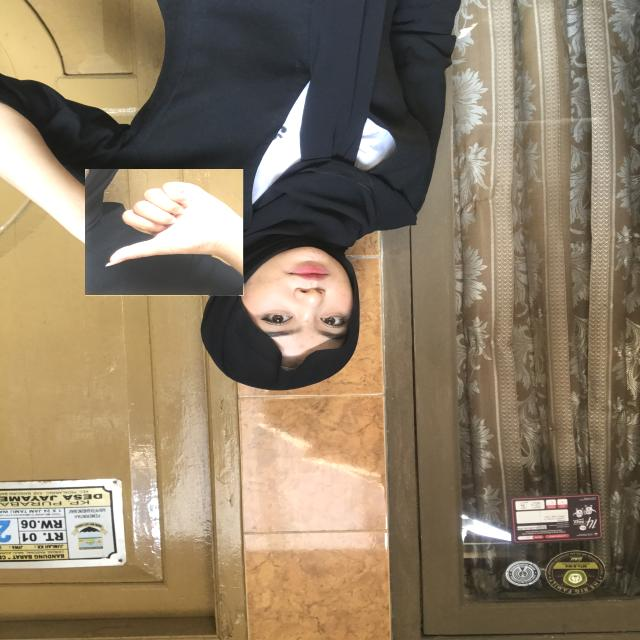sedih: (86, 169, 246, 296)
